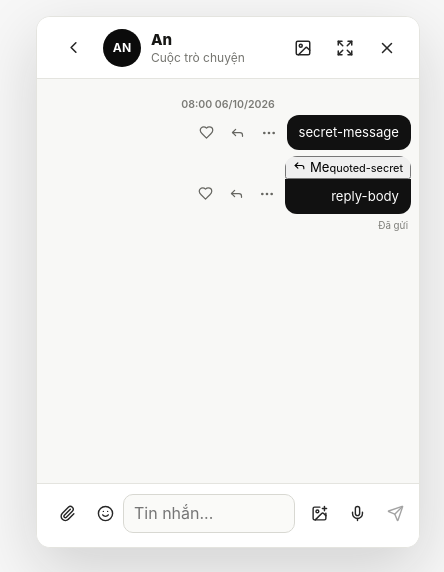
Scenario: mini message action parity › recalls for the sender and redacts reply quotes without clearing the composer
This screenshot has width=444, height=572.
Check: the text "quoted-secret" is shown, box [330, 161, 403, 175]
Step 1. Type "keep draft" into the text box named "Nội dung tin nhắn" → [209, 513], box [123, 494, 295, 533]
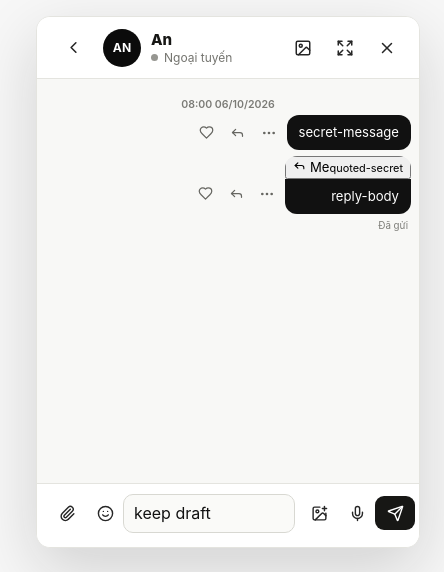
Step 2. Click the button named "Thao tác khác" next to "secret-message" → [268, 132], box [254, 118, 284, 148]
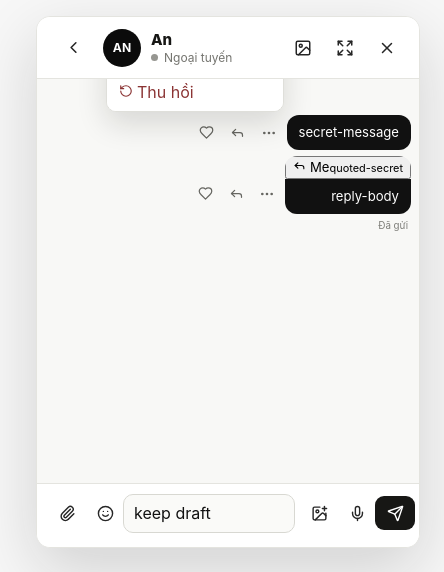
Step 3. Click the menu item "Thu hồi" → [194, 92], box [106, 72, 282, 110]
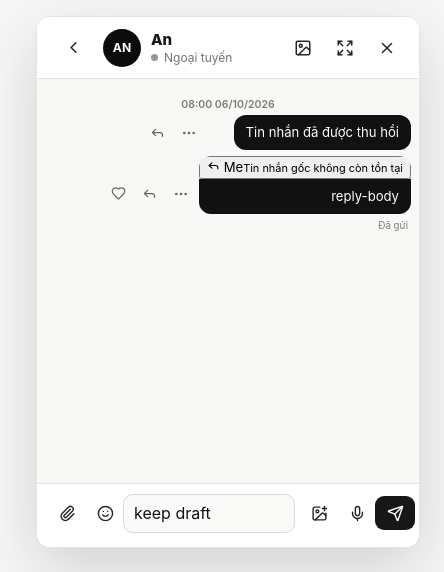
Check: the text "reply-body" is shown, box [331, 188, 399, 204]
Check: the button "quoted-secret" is gone
Check: the text "Tin nhắn đã được thu hồi" is shown, box [246, 124, 399, 141]
